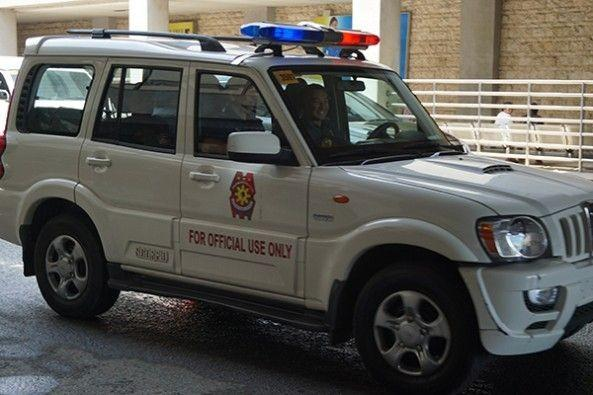Emergency-Vehicles: (19, 29, 593, 381)
